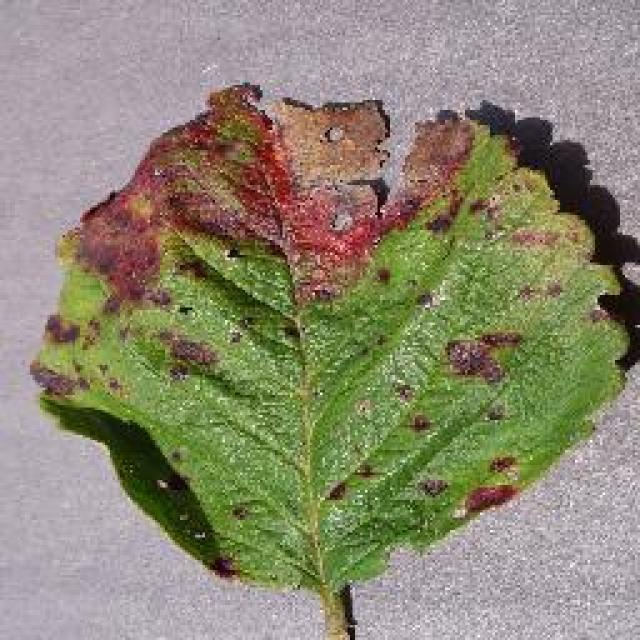Strawberry leaf scorch: (112, 113, 518, 330)
